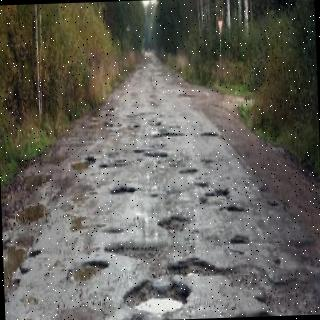pothole: (103, 210, 320, 316), (124, 278, 191, 316), (3, 233, 32, 302), (70, 260, 109, 280), (17, 205, 43, 221), (24, 175, 45, 193), (72, 156, 94, 172)
